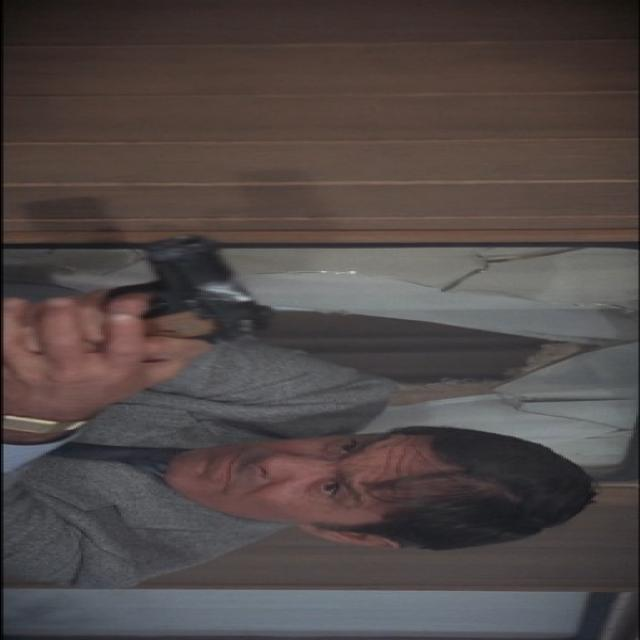weapons: (39, 220, 313, 344)
